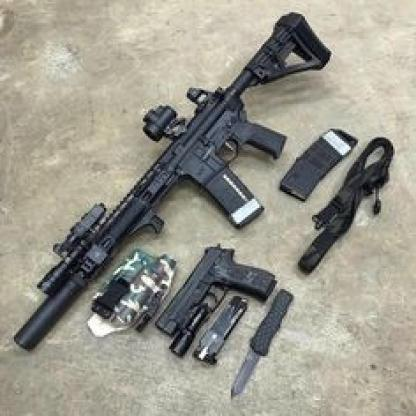Gun: (13, 11, 333, 354)
Knife: (229, 286, 296, 400)
Pistol: (153, 242, 278, 340)
